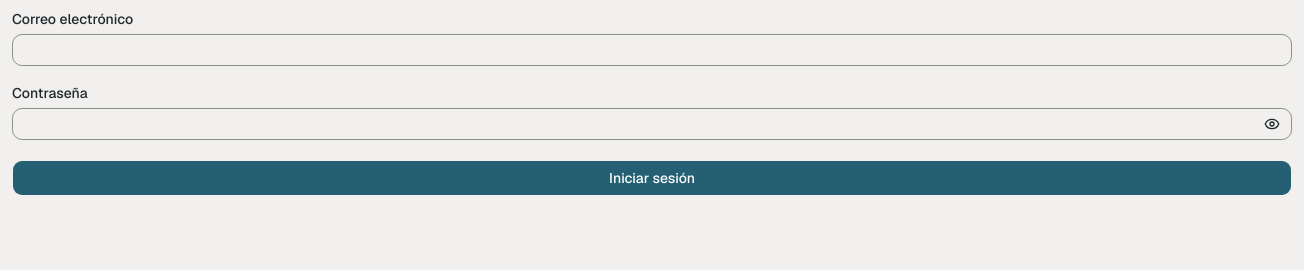
LoginForm › muestra otros errores ya normalizados por apiFetch
This screenshot has width=1304, height=270.
In the field labelled "Correo electrónico": [652, 50] box [12,34,1292,66], type "ana@example.com"
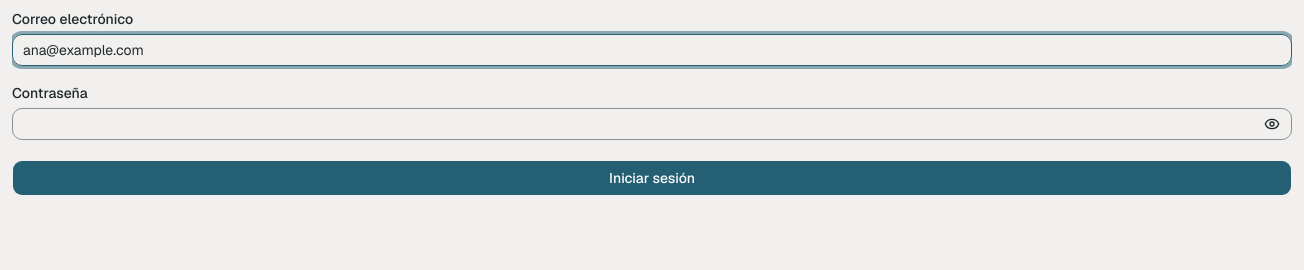
In the password field labelled "Contraseña": [652, 124] box [12,108,1292,140], type "secreto"
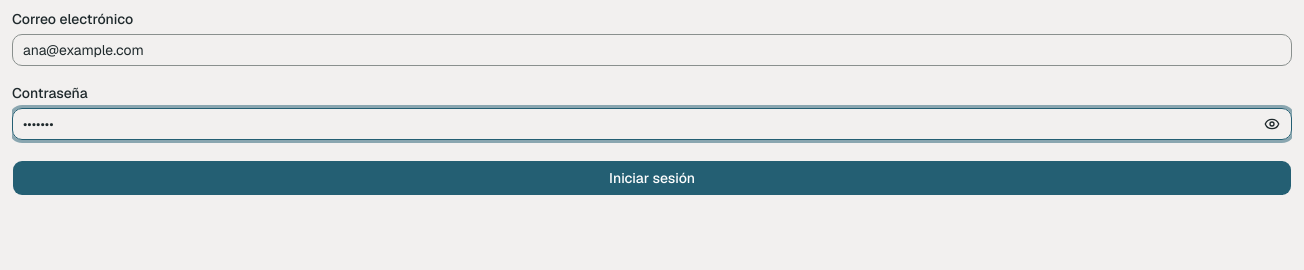
Click the button "Iniciar sesión": [652, 178] box [12,160,1292,196]
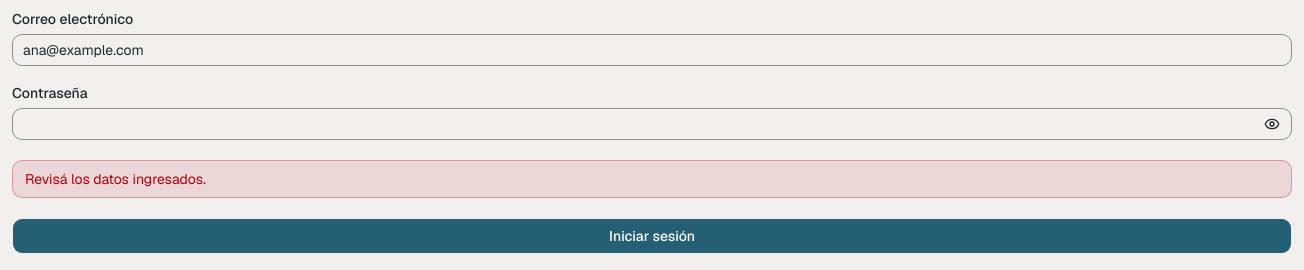
Now the message reads "Revisá los datos ingresados.", box [25,170,206,188]
